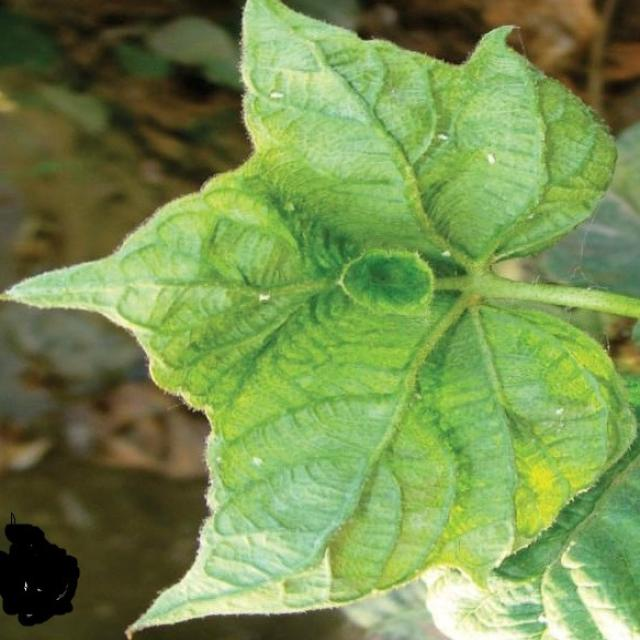Leaf Curl Virus: (183, 110, 520, 486)
